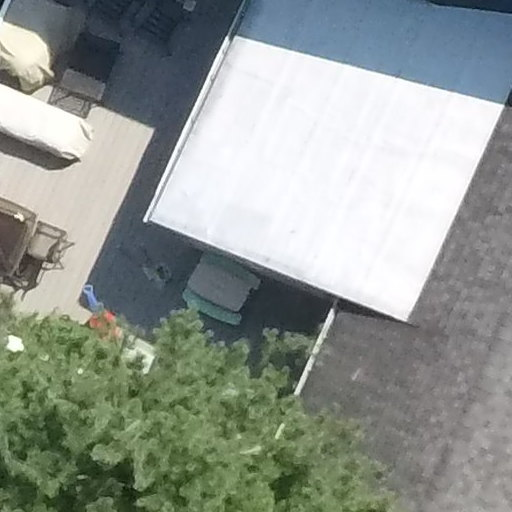toy: (68, 277, 138, 346)
